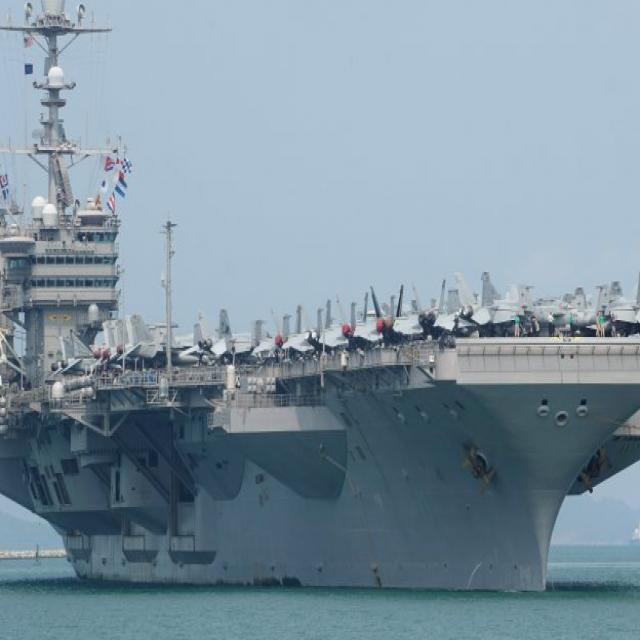Portanaves: (1, 1, 640, 599)
